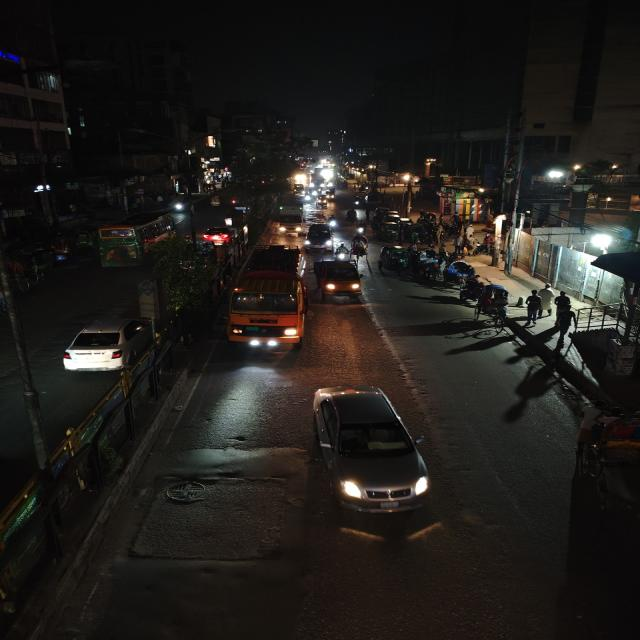bus: (95, 210, 178, 268)
car: (304, 382, 432, 520), (60, 313, 156, 375), (312, 258, 364, 303), (304, 222, 334, 250), (204, 225, 235, 247)
cng: (344, 208, 361, 224)
motorcycle: (354, 221, 368, 235), (329, 214, 340, 230)
pedestrian: (524, 291, 543, 323), (554, 290, 574, 318), (500, 249, 517, 277), (540, 281, 554, 314), (486, 247, 499, 267), (514, 293, 526, 309)
rickshaw: (580, 401, 640, 481), (445, 260, 477, 286)
truck: (226, 242, 309, 354), (274, 204, 305, 235)
